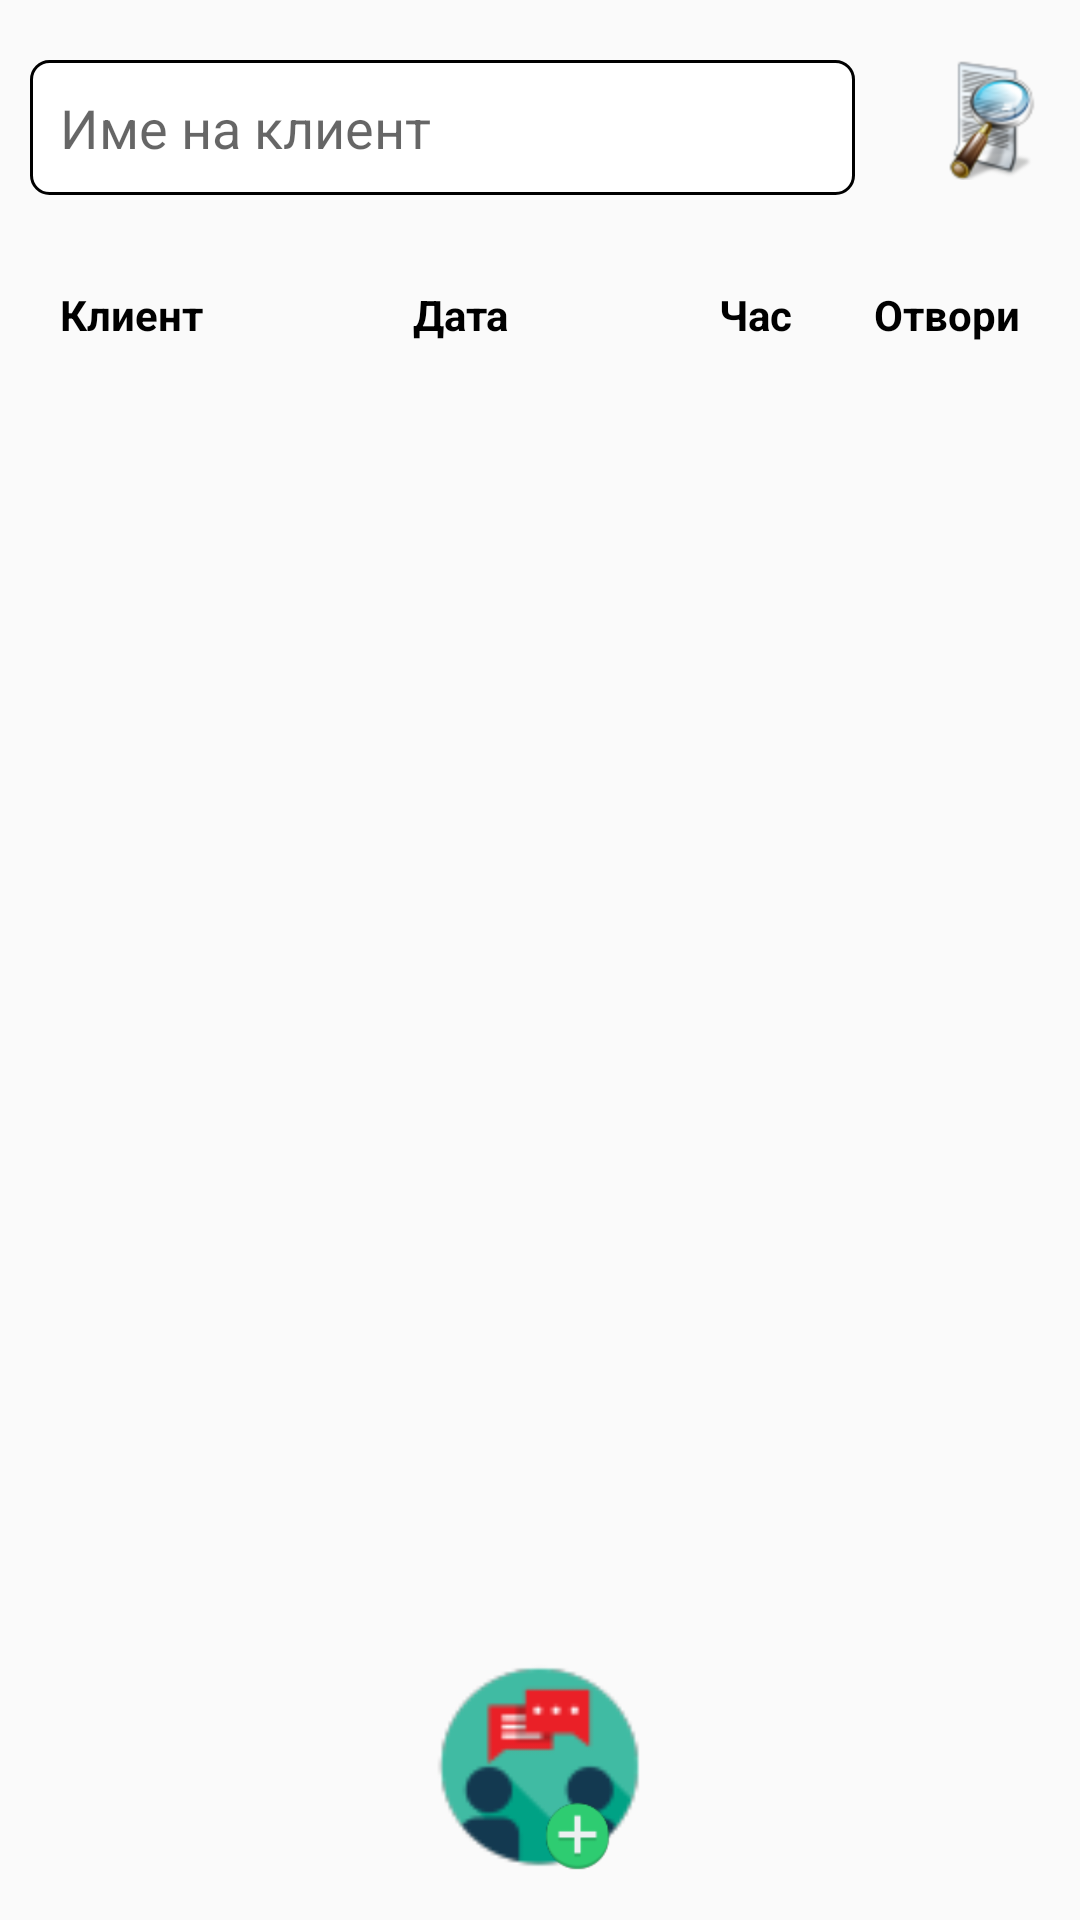

Icon click points for this 1080px x 1920px phone screenshot, format [x,y]:
search: [991,121]
